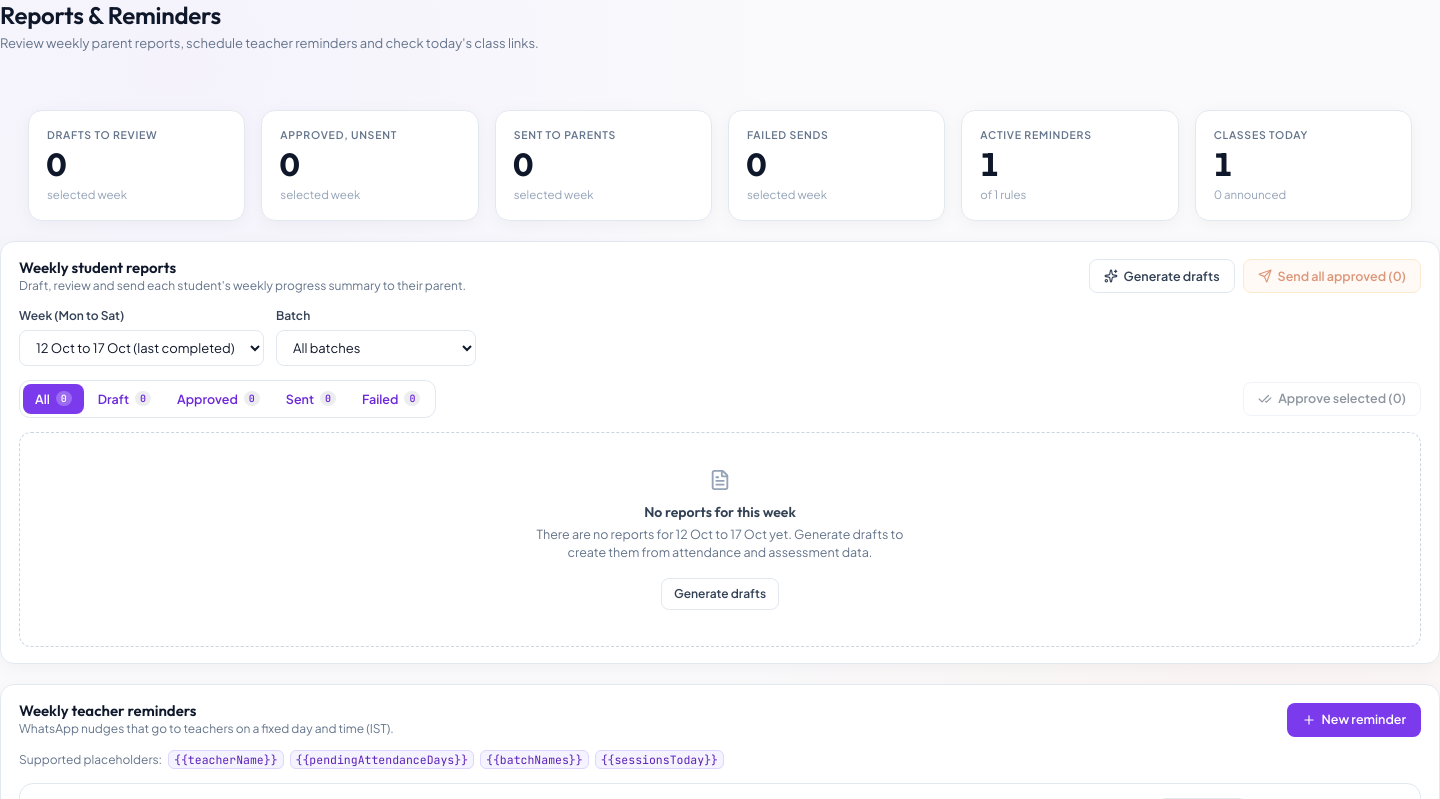
Test: ReportsView: weekly reports › shows an empty state and generates drafts for the selected week
The image size is (1440, 799).
Check: the text "No reports for this week" is shown, box [644,502,796,520]
Click the button "Generate drafts" in the row of "Weekly student reports".
click(1162, 276)  # box [1088,259,1234,293]
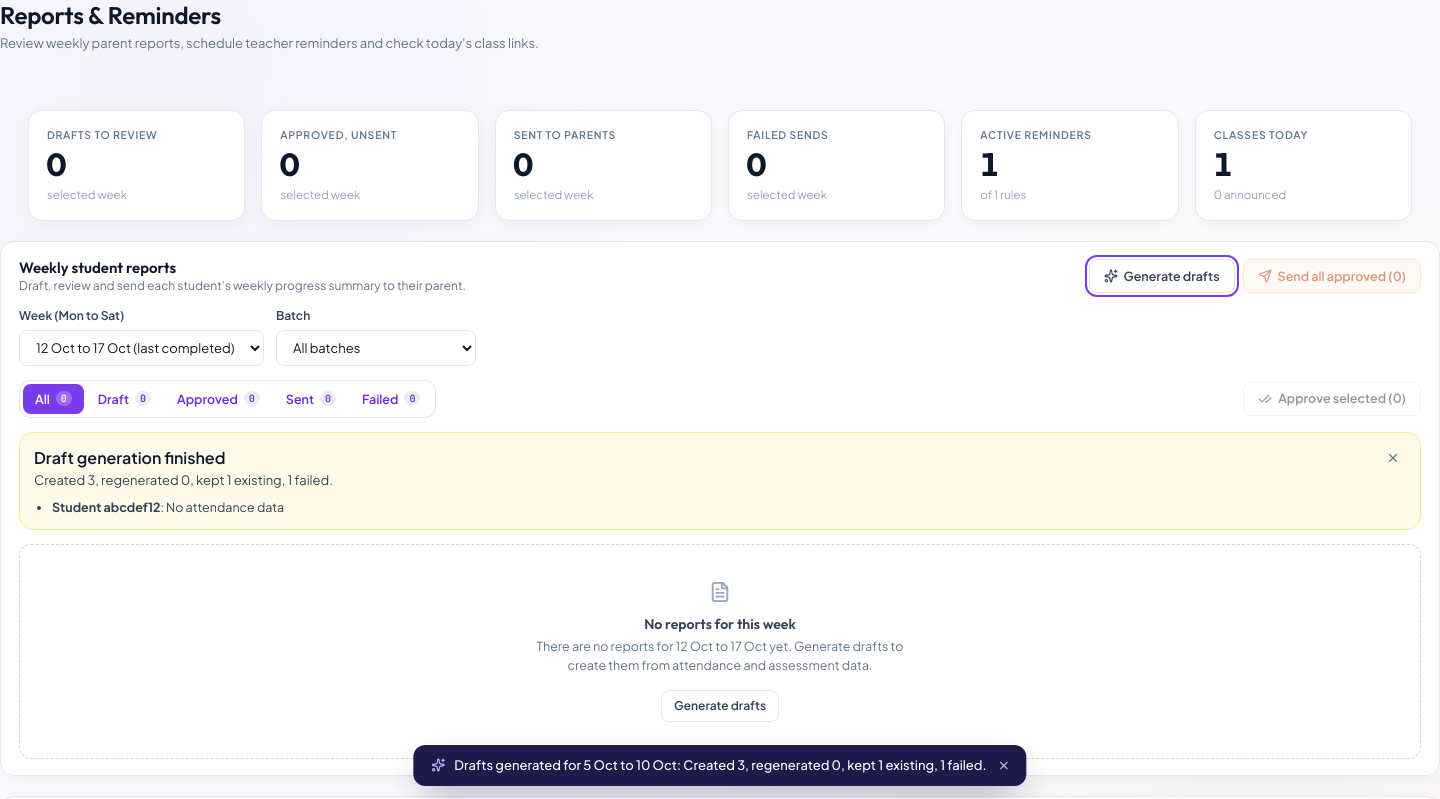
Check: the list item "Student abcdef12: No attendance data" is shown, box [52,499,284,515]
Check: the text "Created 3, regenerated 0, kept 1 existing, 1 failed." is shown, box [34,472,333,488]
